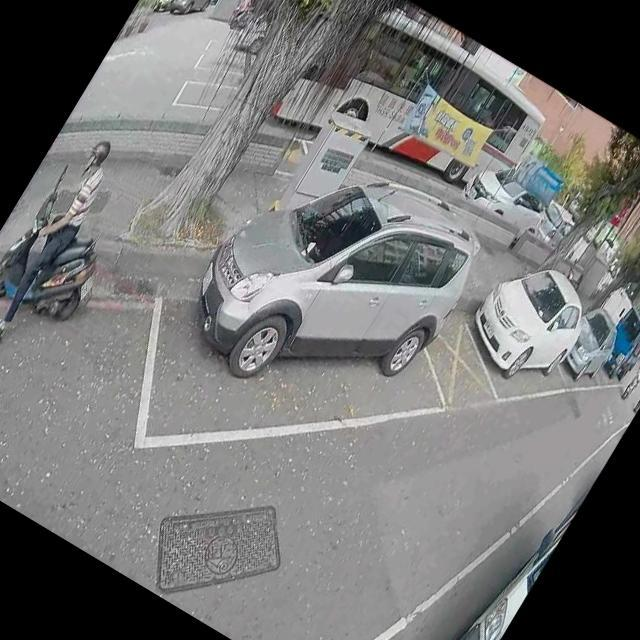person: (0, 124, 134, 353), (232, 0, 257, 19), (629, 361, 640, 390)
